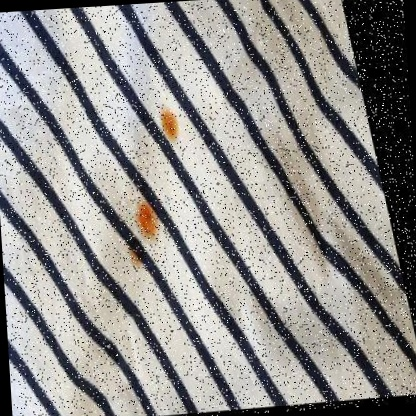kimchi: (131, 202, 162, 244), (161, 105, 182, 142), (124, 254, 143, 270)
